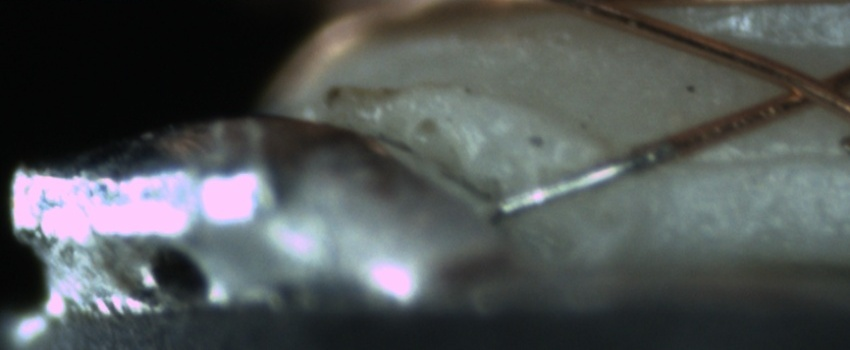CL: (762, 57, 845, 117)
DL: (652, 130, 850, 194)
TS: (495, 140, 672, 220)
